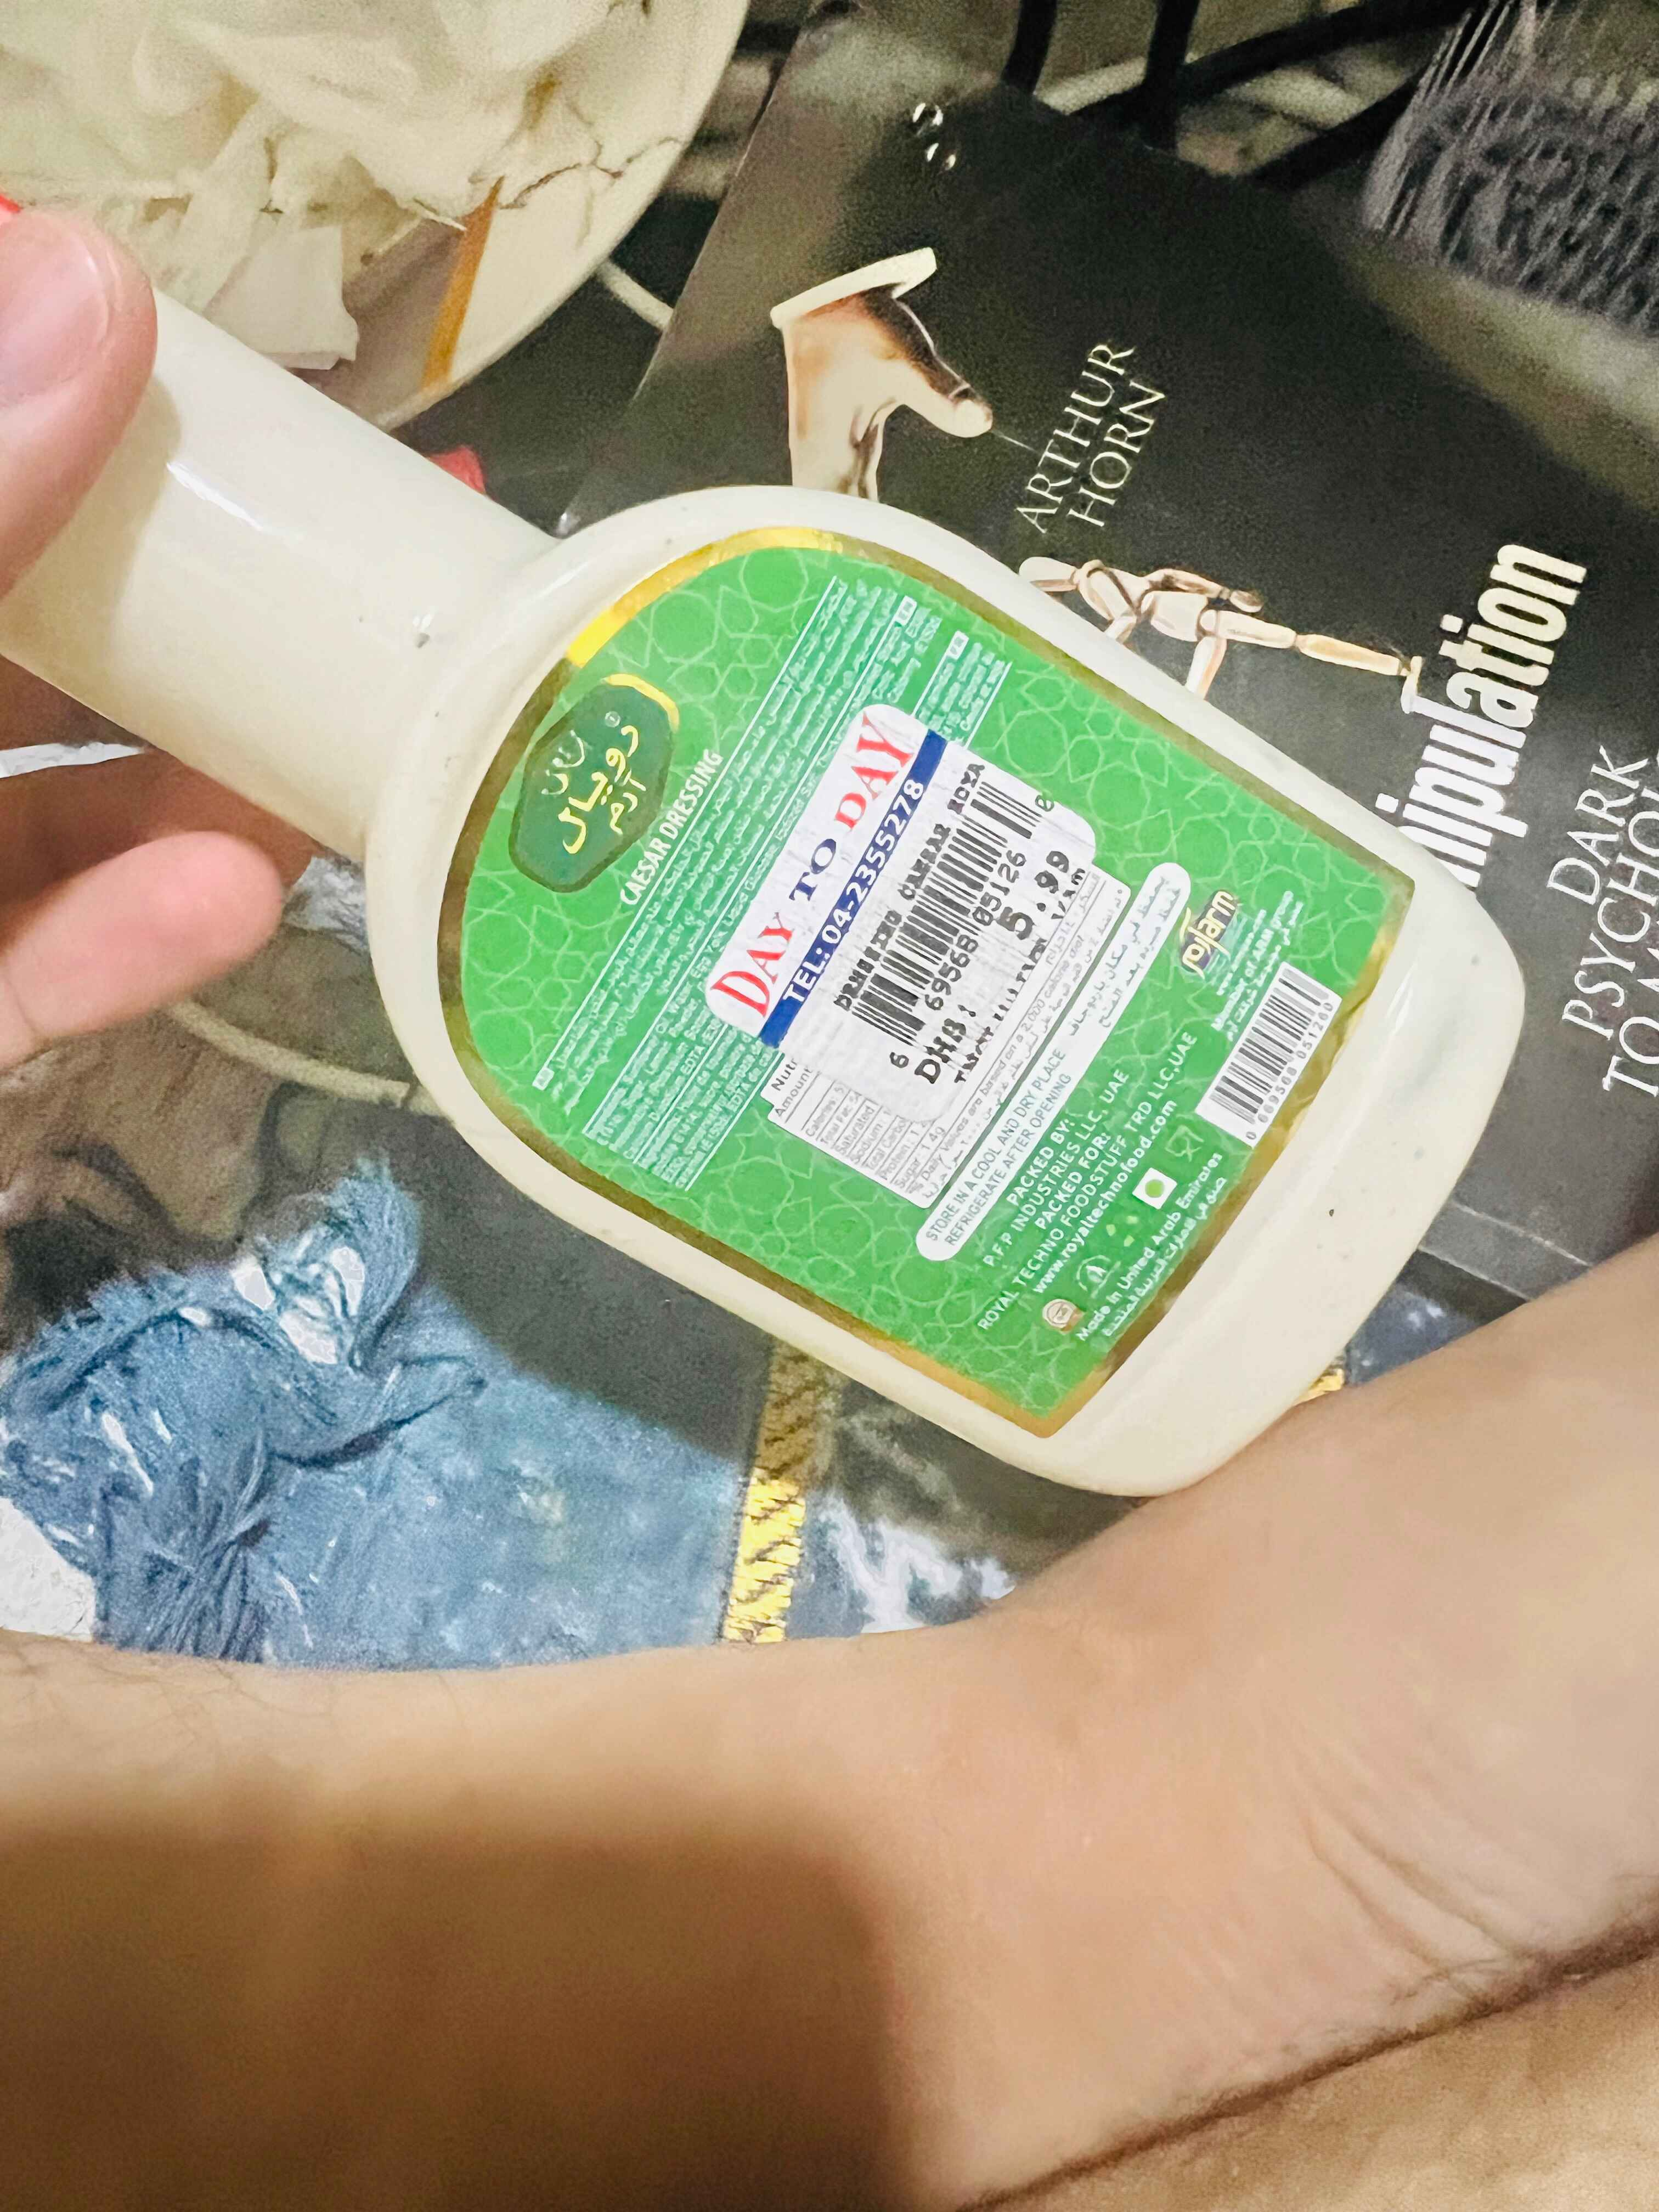PriceTagBig: (708, 698, 1100, 1120)
